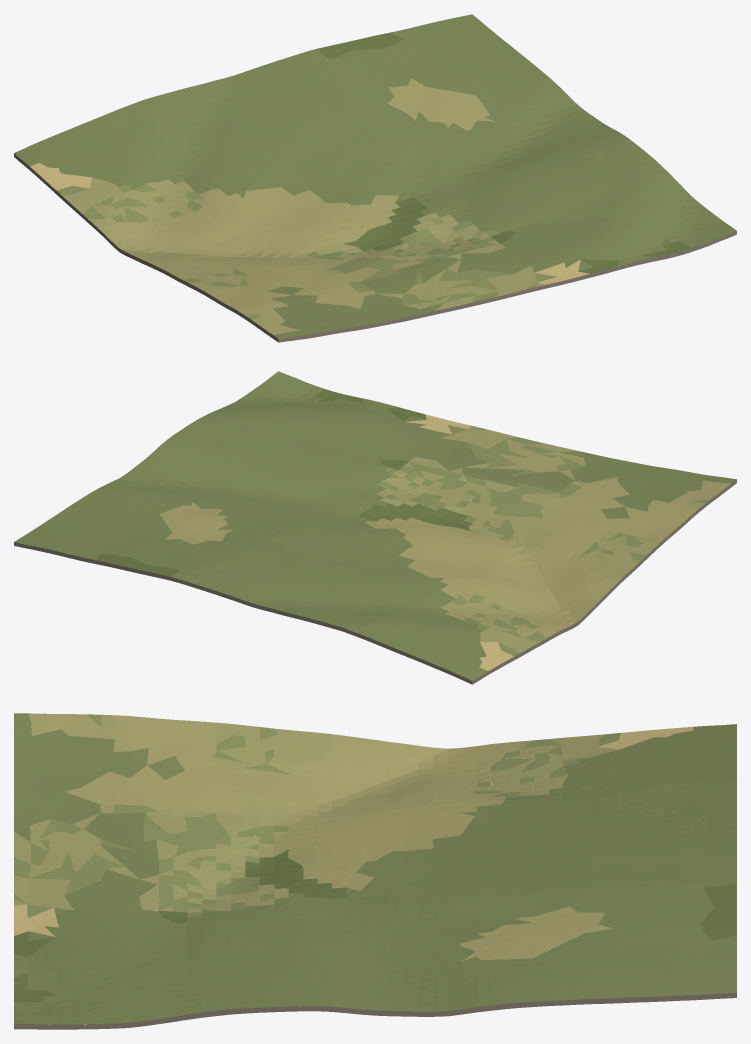
The model's file is parca_+1_-7-uzak.glb.
The picture shows the model from 3 angles, top to bottom: view 1: azimuth 30°, elevation 25°; view 2: azimuth 150°, elevation 25°; view 3: azimuth 270°, elevation 25°; orthographic projection. The views are drawn at different scales.
Parts seen in each view (by area): view 1: parca_+1_-7_arazi_uzak; view 2: parca_+1_-7_arazi_uzak; view 3: parca_+1_-7_arazi_uzak.
Boxes of the visible parts, x1,y1,x2,y2 form: parca_+1_-7_arazi_uzak: (14,14,736,342); parca_+1_-7_arazi_uzak: (14,371,736,684); parca_+1_-7_arazi_uzak: (14,713,736,1029).
Bounding box in the file's own units: 1000 × 109 × 1000.
